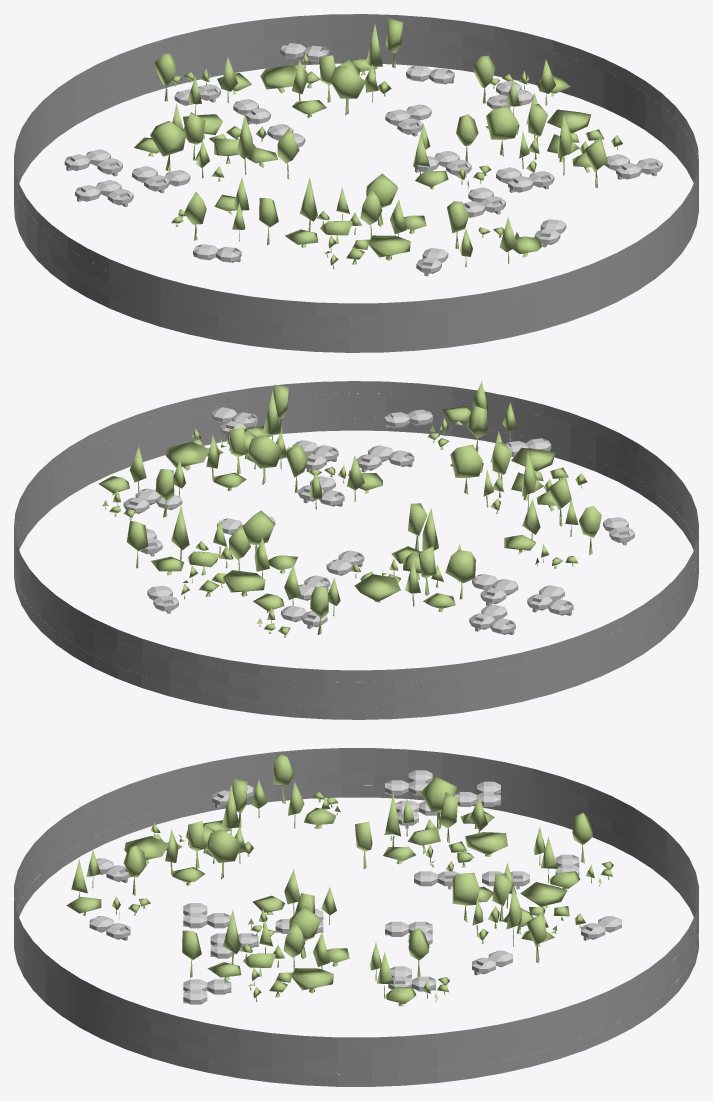
File: arco2_lod2.dae
The picture shows the model from 3 angles, top to bottom: view 1: azimuth 30°, elevation 25°; view 2: azimuth 150°, elevation 25°; view 3: azimuth 270°, elevation 25°; orthographic projection.
Visible parts, largest first — view 1: wins_on_002, wins_off_002, trees1_lod1_003, trees1_lod1_000, trees1_lod1_001, trees1_lod1_002, trees2_lod1_004, trees2_lod1_003, trees2_lod1_001, trees2_lod1_002, trees2_lod1_000; view 2: wins_on_002, wins_off_002, trees1_lod1_001, trees1_lod1_000, trees1_lod1_002, trees1_lod1_003, trees2_lod1_000, trees2_lod1_001, trees2_lod1_002, trees2_lod1_004, trees2_lod1_003; view 3: wins_on_002, wins_off_002, trees1_lod1_002, trees1_lod1_000, trees1_lod1_001, trees1_lod1_003, trees2_lod1_000, trees2_lod1_004, trees2_lod1_002, trees2_lod1_001, trees2_lod1_003.
Boxes of the visible parts, x1,y1,x2,y2 form: wins_on_002: (14,14,698,352); wins_off_002: (14,17,698,352); trees1_lod1_003: (259,173,426,269); trees1_lod1_000: (134,104,299,181); trees1_lod1_001: (260,18,403,118); trees1_lod1_002: (485,93,622,188); trees2_lod1_004: (447,201,542,266); trees2_lod1_003: (413,114,491,189); trees2_lod1_001: (155,53,251,114); trees2_lod1_002: (473,55,570,114); trees2_lod1_000: (171,177,249,241); wins_on_002: (14,384,698,719); wins_off_002: (14,381,698,719); trees1_lod1_001: (126,505,297,599); trees1_lod1_000: (350,503,475,612); trees1_lod1_002: (165,385,290,491); trees1_lod1_003: (450,431,587,526); trees2_lod1_000: (504,498,601,568); trees2_lod1_001: (253,564,340,637); trees2_lod1_002: (98,447,185,520); trees2_lod1_004: (427,381,517,452); trees2_lod1_003: (285,445,382,509); wins_on_002: (14,748,698,1086); wins_off_002: (14,748,698,1086); trees1_lod1_002: (182,906,349,1001); trees1_lod1_000: (355,776,507,871); trees1_lod1_001: (452,863,585,963); trees1_lod1_003: (124,779,253,885); trees2_lod1_000: (252,754,340,828); trees2_lod1_004: (66,845,150,919); trees2_lod1_002: (369,928,449,1006); trees2_lod1_001: (533,813,613,890); trees2_lod1_003: (248,869,336,941).
Size of what is drawn, in the model's own units: 401 by 401 by 67.18.
